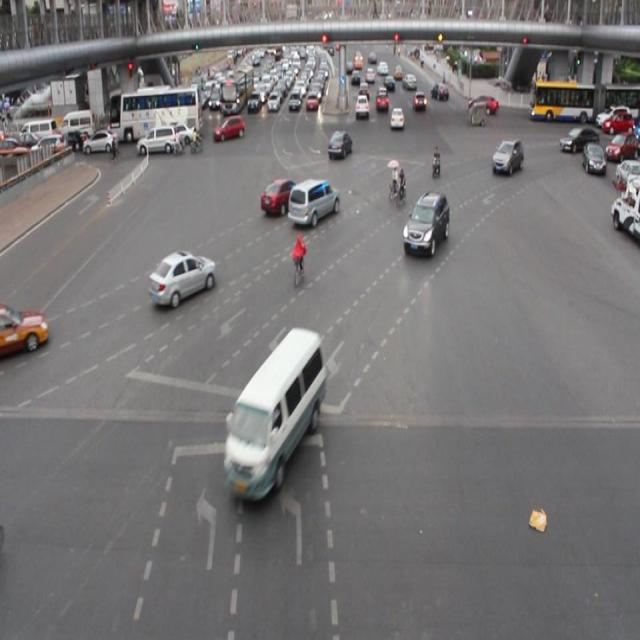car: (149, 248, 216, 308), (401, 188, 448, 260), (1, 299, 50, 360), (260, 176, 301, 219), (490, 137, 522, 178), (560, 124, 596, 157), (327, 127, 352, 162)
truck: (224, 328, 324, 504), (288, 175, 339, 229)
